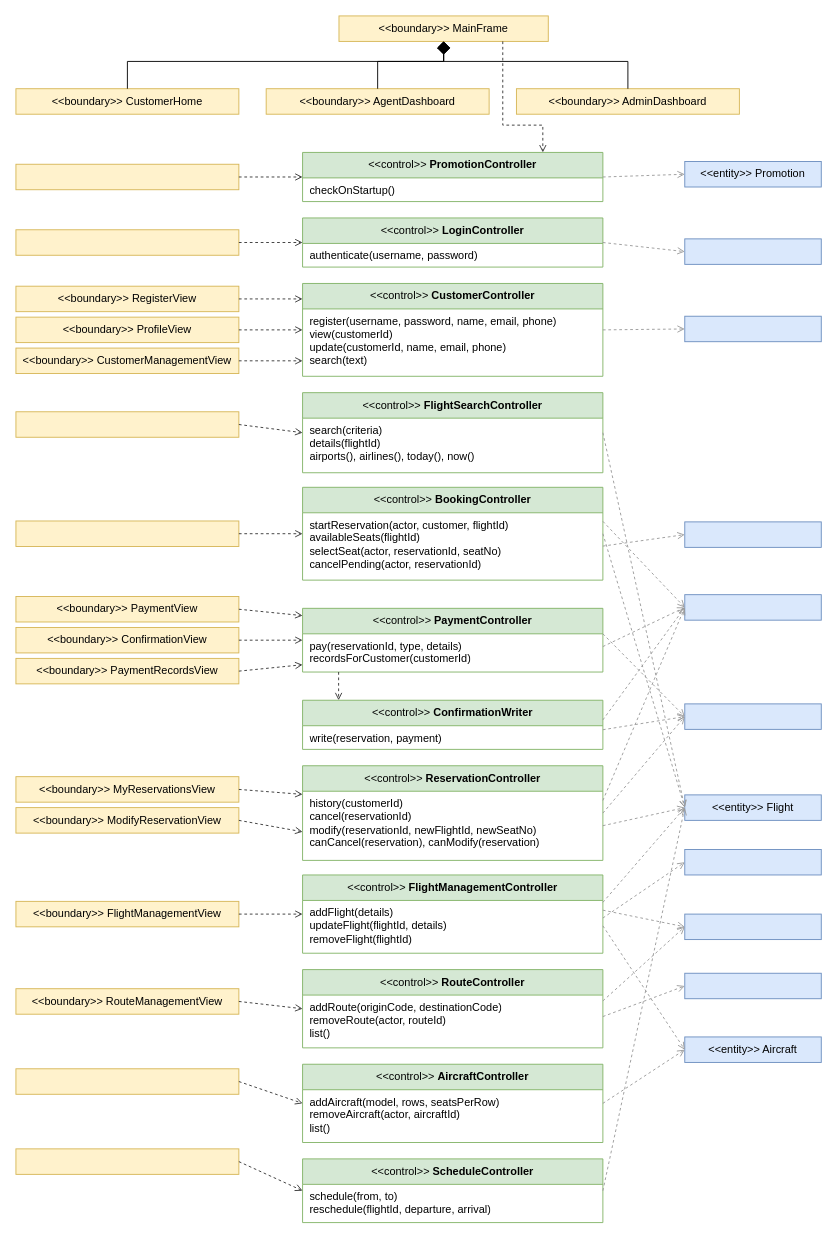
Some shapes in this 837 by 1241 pixel diagram are drawn without their labels. The centre of each missing label's shape, as x and y in pixels:
<<boundary>> AircraftManagementView: point 127,1081
<<boundary>> FlightSearchView: point 127,424
<<boundary>> LoginView: point 127,242
<<boundary>> PromotionDialog: point 127,176
<<boundary>> ScheduleView: point 127,1161
<<boundary>> SeatSelectionView: point 127,533
<<entity>> Airline: point 752,862
<<entity>> Airport: point 752,985
<<entity>> Customer: point 752,328
<<entity>> Payment: point 752,716
<<entity>> Reservation: point 752,607
<<entity>> Route: point 752,926
<<entity>> Seat: point 752,534
<<entity>> User: point 752,251
